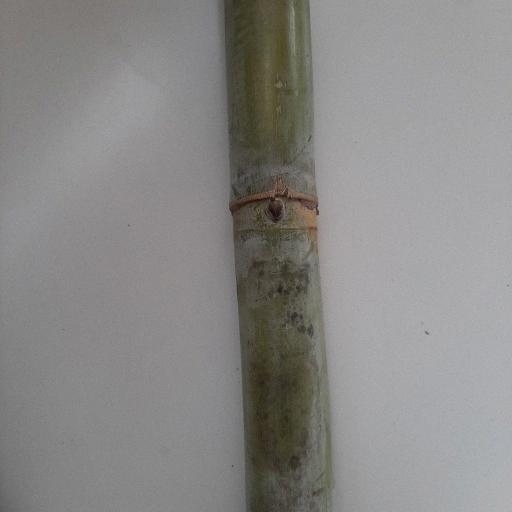Bud: (267, 198, 284, 221)
